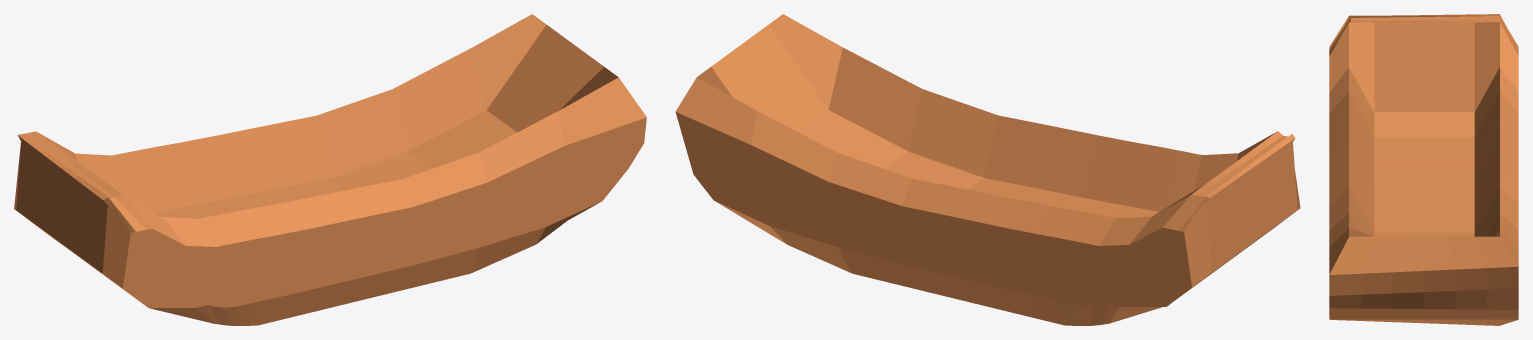
The model's file is hammok.fbx.
3 views of the same model, side by side, from view 1: azimuth 30°, elevation 25°; view 2: azimuth 150°, elevation 25°; view 3: azimuth 270°, elevation 25° (orthographic). The views are drawn at different scales.
Parts seen in each view (by area): view 1: Cube; view 2: Cube; view 3: Cube.
Boxes of the visible parts, bbox=[...] form: Cube: bbox=[14, 14, 646, 325]; Cube: bbox=[675, 14, 1300, 325]; Cube: bbox=[1329, 14, 1518, 325].
Size of the model in its own units: 471 by 139 by 166.
